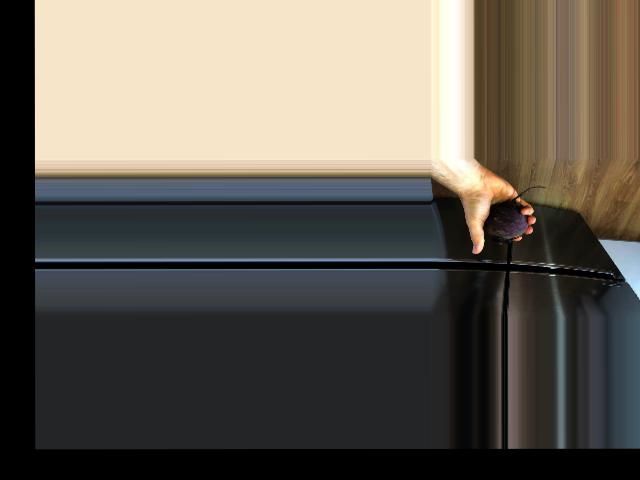beet: (484, 186, 547, 244)
